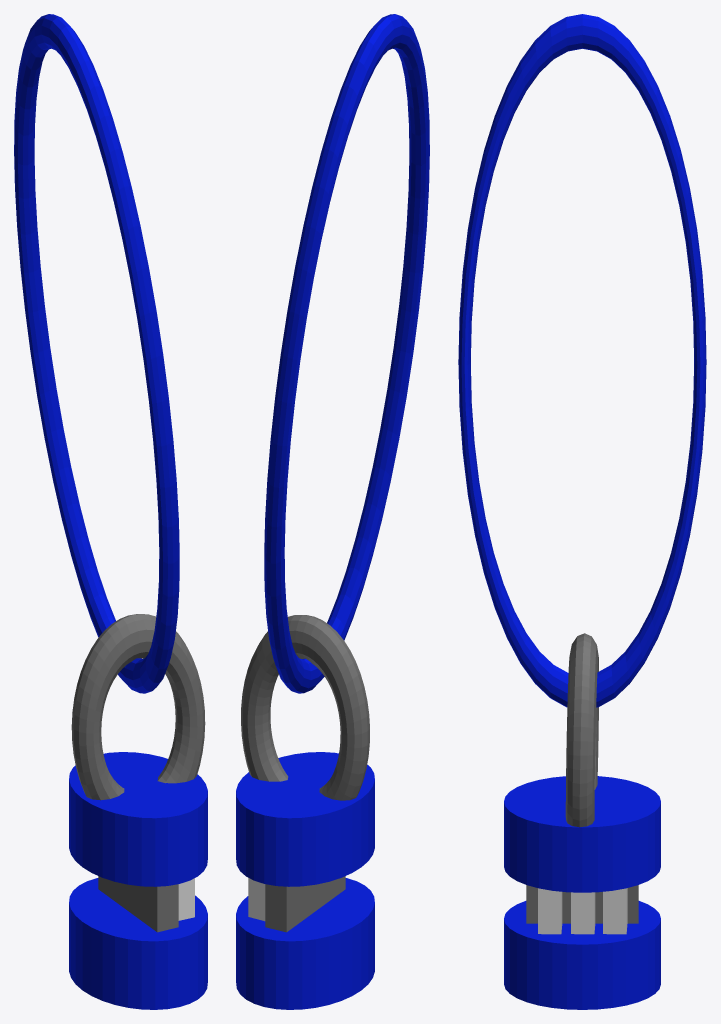
Rendered from bluelock.fbx.
3 renders of one model, left to right at view 1: azimuth 30°, elevation 25°; view 2: azimuth 150°, elevation 25°; view 3: azimuth 270°, elevation 25°, orthographic. The views are drawn at different scales.
Visible parts, largest first — view 1: Torus.002, Cylinder, Cylinder.001, Torus.001, Cube.002, Cube.003; view 2: Torus.002, Cylinder, Cylinder.001, Torus.001, Cube.002, Cube.005; view 3: Torus.002, Cylinder, Cylinder.001, Torus.001, Cube.002, Cube.005, Cube.003, Cube.004.
Part boxes in pixels (<box>): Torus.002: <box>14,14,179,693</box>; Cylinder: <box>69,752,207,886</box>; Cylinder.001: <box>69,878,207,1009</box>; Torus.001: <box>71,614,205,800</box>; Cube.002: <box>98,876,178,932</box>; Cube.003: <box>178,878,194,920</box>; Torus.002: <box>264,14,429,693</box>; Cylinder: <box>236,752,374,886</box>; Cylinder.001: <box>236,878,374,1009</box>; Torus.001: <box>241,615,369,800</box>; Cube.002: <box>265,876,345,932</box>; Cube.005: <box>248,878,265,921</box>; Torus.002: <box>458,14,706,707</box>; Cylinder: <box>504,776,660,892</box>; Cylinder.001: <box>504,901,660,1009</box>; Torus.001: <box>565,633,598,827</box>; Cube.002: <box>526,885,638,923</box>; Cube.005: <box>603,888,627,934</box>; Cube.003: <box>538,888,562,934</box>; Cube.004: <box>571,892,595,934</box>.
Size of the model in its own units: 34.79 by 213 by 51.42.
